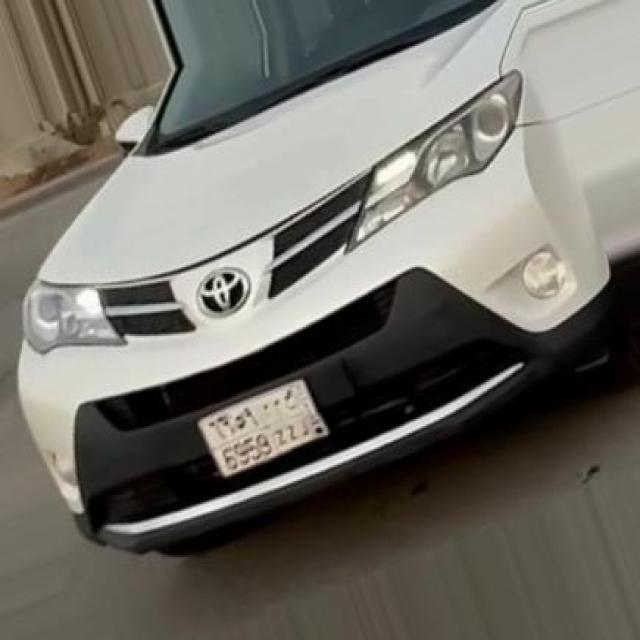Car-plate: (183, 362, 351, 498)
